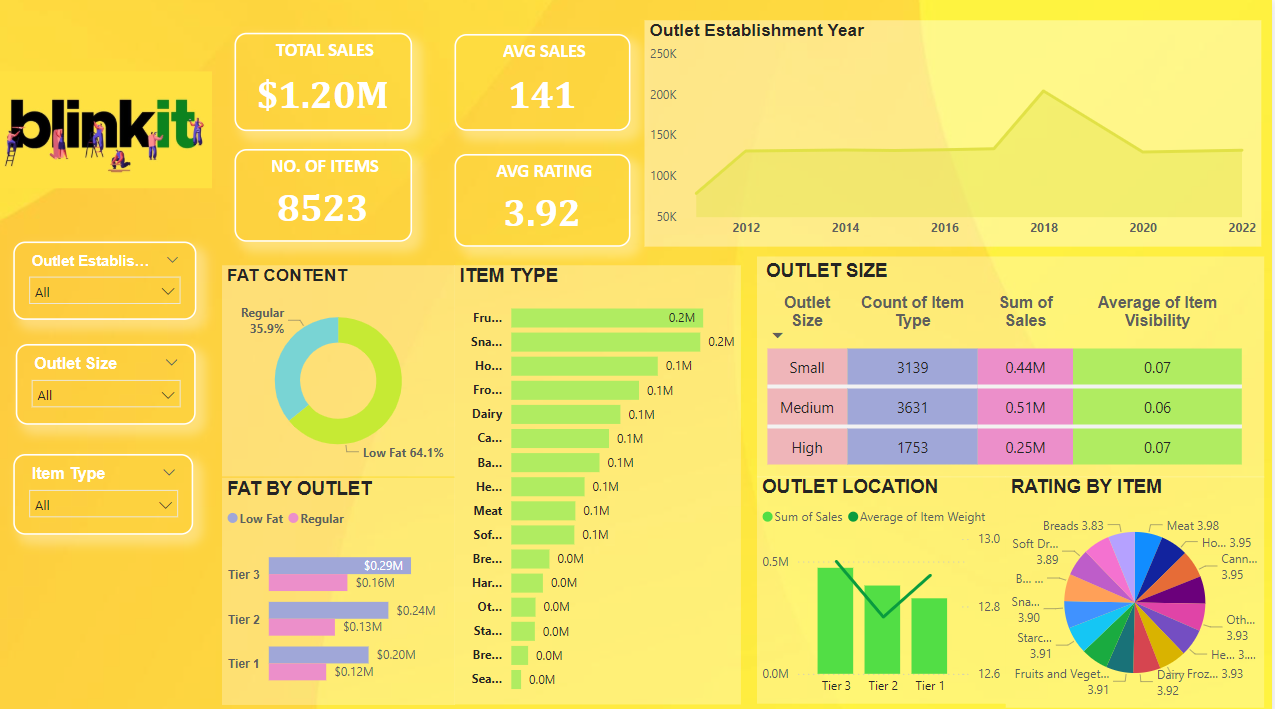

Layout of this report page (visuals, bound fields, positions):
{"tool":"powerbi","page":{"name":"Page 1","canvas":[1280,720],"ordinal":0},"visuals":[{"type":"card","title":"TOTAL SALES","fields":{"Values":["Sum(BlinkIT Grocery Data.Sales)"]},"box":[242.3,33.7,177.7,98.3],"z":0},{"type":"card","title":"AVG SALES","fields":{"Values":["Avg(BlinkIT Grocery Data.Sales)"]},"box":[463.1,35,176.4,96.9],"z":1000},{"type":"card","title":"NO. OF ITEMS","fields":{"Values":["CountNonNull(BlinkIT Grocery Data.Item Type)"]},"box":[242.3,149.4,177.7,92.9],"z":2000},{"type":"card","title":"AVG RATING","fields":{"Values":["Avg(BlinkIT Grocery Data.Rating)"]},"box":[463.1,154.8,176.4,92.9],"z":3000},{"type":"donutChart","title":"FAT CONTENT","fields":{"Category":["BlinkIT Grocery Data.Item Fat Content"],"Y":["Sum(BlinkIT Grocery Data.Sales)"]},"box":[230.2,266.6,232.9,211.4],"z":4000},{"type":"clusteredBarChart","title":"ITEM TYPE","fields":{"Category":["BlinkIT Grocery Data.Item Type"],"Y":["Sum(BlinkIT Grocery Data.Sales)"]},"box":[463.1,266.6,286.7,438.9],"z":5000},{"type":"clusteredBarChart","title":"FAT BY OUTLET","fields":{"Category":["BlinkIT Grocery Data.Outlet Location Type"],"Y":["Sum(BlinkIT Grocery Data.Sales)"],"Series":["BlinkIT Grocery Data.Item Fat Content"]},"box":[230.2,479.3,232.9,227.5],"z":6000},{"type":"stackedAreaChart","title":" Outlet Establishment Year","fields":{"Category":["BlinkIT Grocery Data.Outlet Establishment Year"],"Y":["Sum(BlinkIT Grocery Data.Sales)"]},"box":[652.9,21.5,616.6,226.2],"z":7000},{"type":"slicer","fields":{"Values":["BlinkIT Grocery Data.Outlet Establishment Year"]},"box":[21.5,242.3,183.1,78.1],"z":8000},{"type":"slicer","fields":{"Values":["BlinkIT Grocery Data.Outlet Size"]},"box":[24.2,344.6,180.4,80.8],"z":9000},{"type":"slicer","fields":{"Values":["BlinkIT Grocery Data.Item Type"]},"box":[21.5,455,180.4,80.8],"z":10000},{"type":"image","box":[0,41.7,224.8,179],"z":11000},{"type":"tableEx","title":" OUTLET SIZE","fields":{"Values":["BlinkIT Grocery Data.Outlet Size","BlinkIT Grocery Data.Item Type","Sum(BlinkIT Grocery Data.Sales)","Avg(BlinkIT Grocery Data.Item Visibility)"]},"box":[764.7,257.1,507.5,220.8],"z":13001},{"type":"lineStackedColumnComboChart","title":"OUTLET LOCATION","fields":{"Category":["BlinkIT Grocery Data.Outlet Location Type"],"Y":["Sum(BlinkIT Grocery Data.Sales)"],"Y2":["Avg(BlinkIT Grocery Data.Item Weight)"]},"box":[764.7,477.9,249.1,227.5],"z":13002},{"type":"pieChart","title":"RATING BY ITEM","fields":{"Category":["BlinkIT Grocery Data.Item Type"],"Y":["Avg(BlinkIT Grocery Data.Rating)"]},"box":[1013.7,477.9,258.5,231.6],"z":13003}]}

Visuals, with their boxes in screenshot pixels (x1, y1, x2, y2), scaled from the page's 1280x720 canvas onto the 1275x709 screenshot:
"TOTAL SALES" card: <region>241, 33, 418, 130</region>
"AVG SALES" card: <region>461, 34, 637, 130</region>
"NO. OF ITEMS" card: <region>241, 147, 418, 239</region>
"AVG RATING" card: <region>461, 152, 637, 244</region>
"FAT CONTENT" donutChart: <region>229, 263, 461, 471</region>
"ITEM TYPE" clusteredBarChart: <region>461, 263, 747, 695</region>
"FAT BY OUTLET" clusteredBarChart: <region>229, 472, 461, 696</region>
" Outlet Establishment Year" stackedAreaChart: <region>650, 21, 1265, 244</region>
slicer - BlinkIT Grocery Data.Outlet Establishment Year: <region>21, 239, 204, 316</region>
slicer - BlinkIT Grocery Data.Outlet Size: <region>24, 339, 204, 419</region>
slicer - BlinkIT Grocery Data.Item Type: <region>21, 448, 201, 528</region>
image: <region>0, 41, 224, 217</region>
" OUTLET SIZE" tableEx: <region>762, 253, 1267, 471</region>
"OUTLET LOCATION" lineStackedColumnComboChart: <region>762, 471, 1010, 695</region>
"RATING BY ITEM" pieChart: <region>1010, 471, 1267, 699</region>
